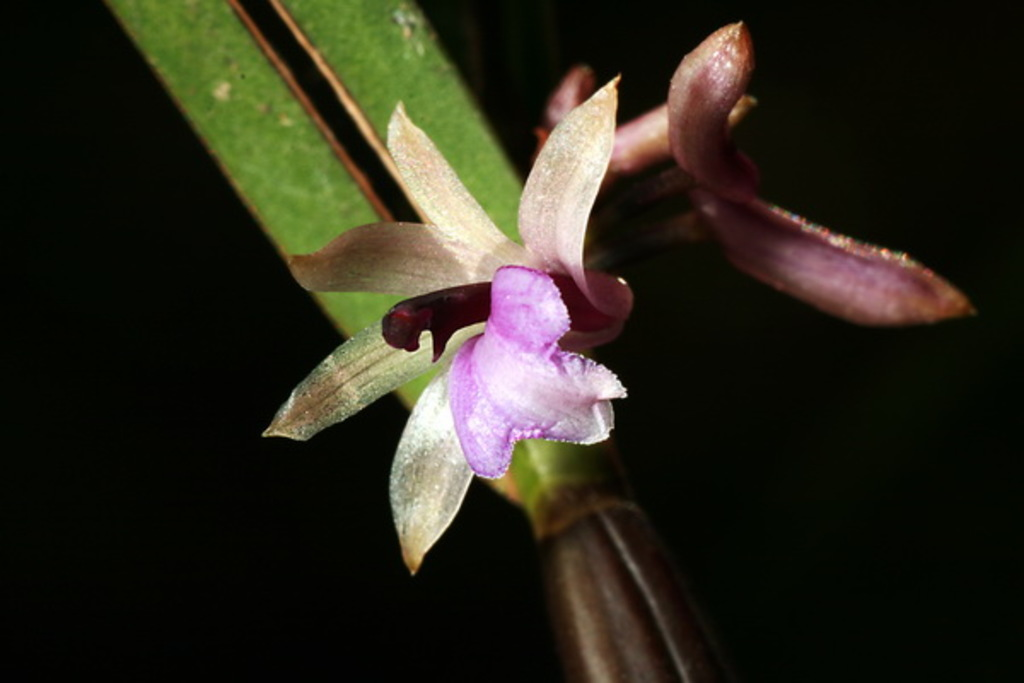face: (454, 318, 633, 475)
